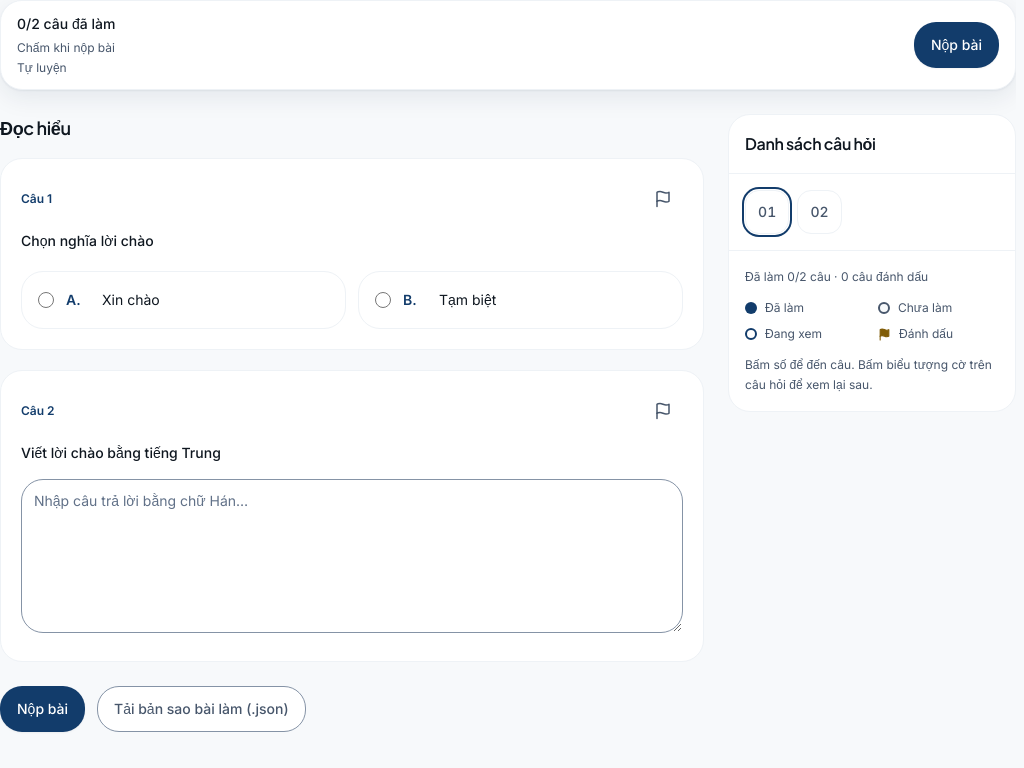
Test: submits from the end of a practice set through the same confirmation dialog
The image size is (1024, 768).
Step 1. Click the radio button labelled "A. Xin chào" → (46, 300), box x1=38 y1=292 x2=54 y2=308
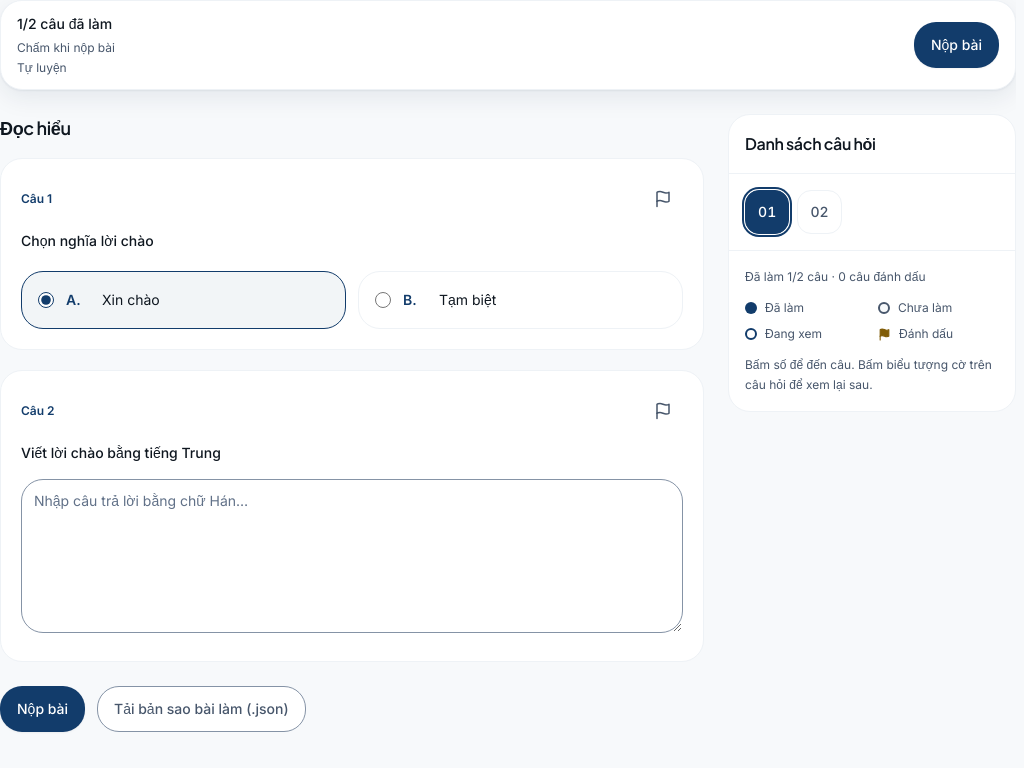
Step 2. Click the button with aria-label "Nộp bài luyện tập" → (42, 709), box x1=0 y1=686 x2=85 y2=732
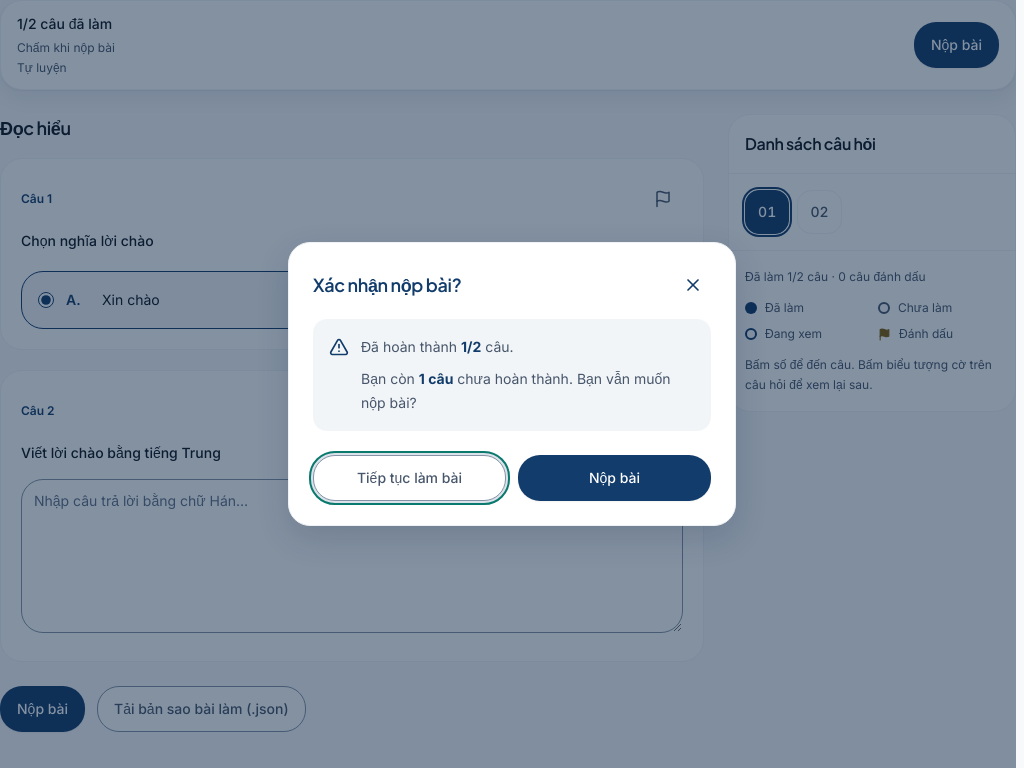
Check: the element "Kết quả luyện tập" is not shown
Check: the radio button labelled "A. Xin chào" is checked, box x1=38 y1=292 x2=54 y2=308
Step 3. Click the button "Nộp bài" → (614, 478), box x1=518 y1=455 x2=711 y2=501
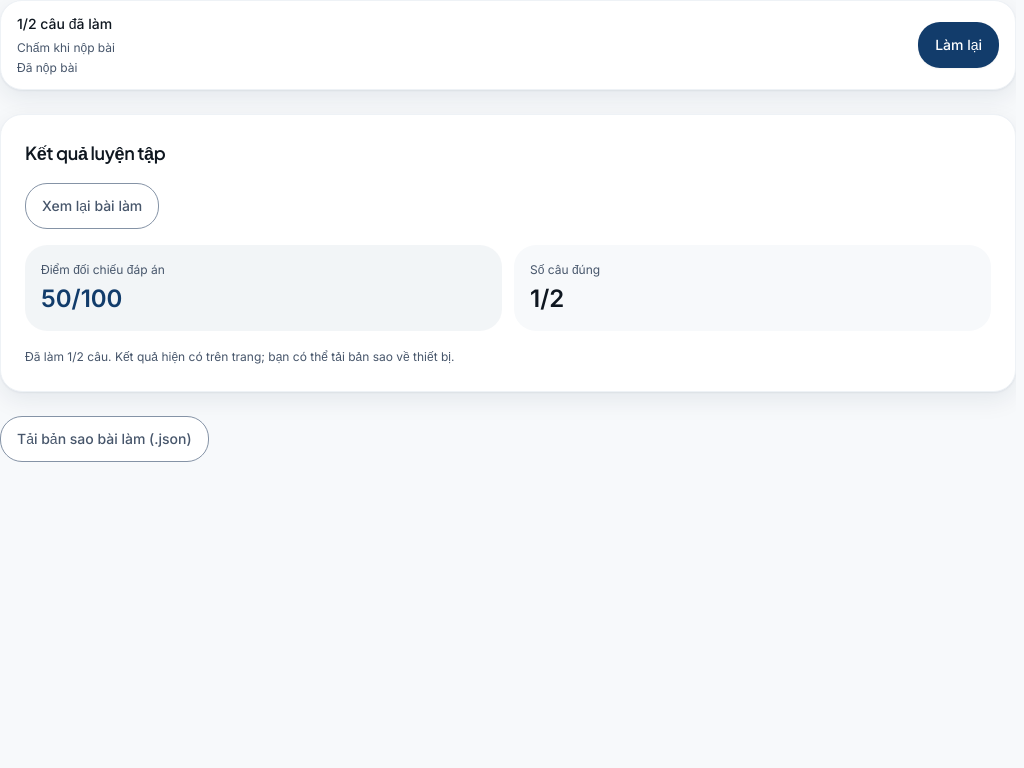
Check: the element "Kết quả luyện tập" is shown, box x1=0 y1=114 x2=1016 y2=392
